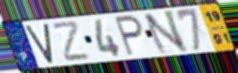4: (94, 18, 123, 58)
7: (174, 6, 203, 53)
N: (142, 9, 190, 56)
P: (113, 14, 145, 57)
V: (24, 22, 55, 66)
Z: (51, 19, 92, 63)
